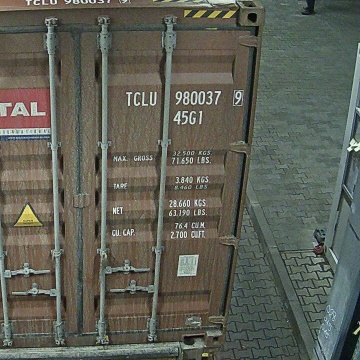serial_id: (126, 91, 242, 106)
